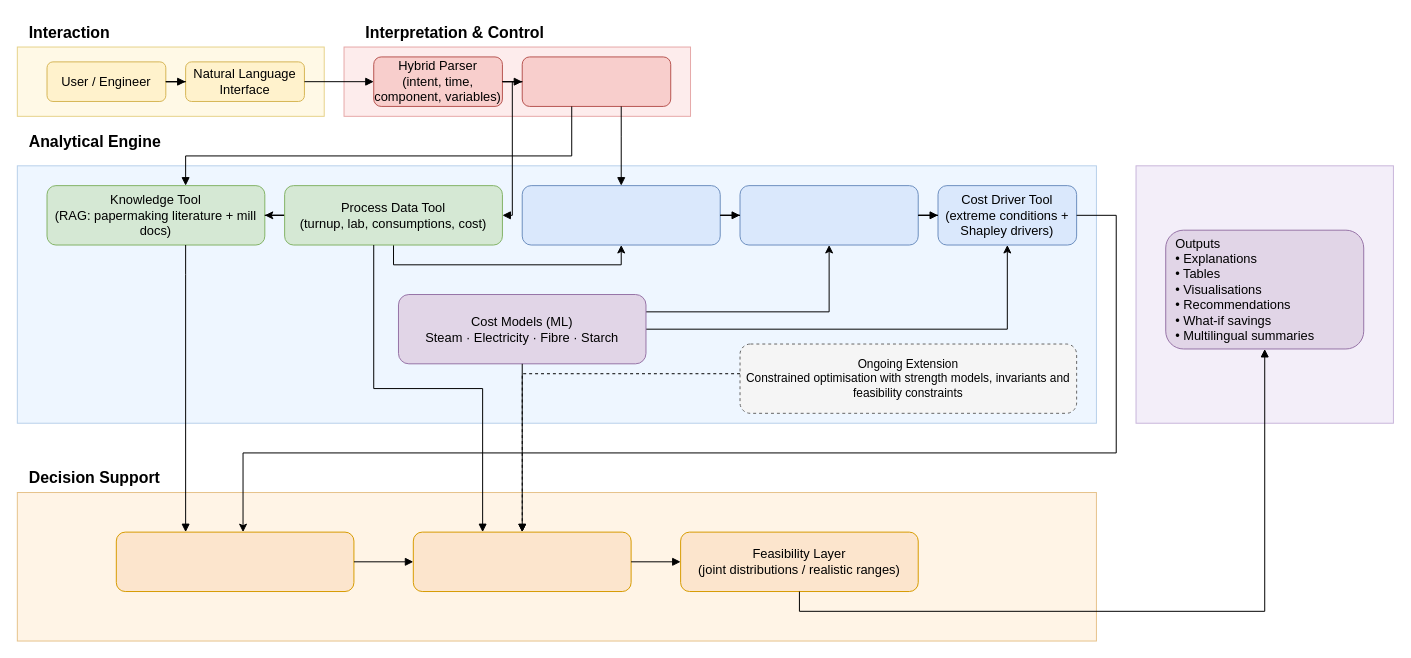
The diagram is 1411 pixels wide and 658 high, and some of its shapes have lost their labels. Each missing label, with the centre of its shape:
Description Tool (overall / grade / component variation): (620,215)
Orchestrator (sequential workflow execution): (596,81)
Recommendation Tool (data-driven drivers + RAG validation): (234,561)
Scenario Tool (snapshot + interventions + savings): (521,561)
SHAP Tool (baseline vs current explanation): (828,215)
